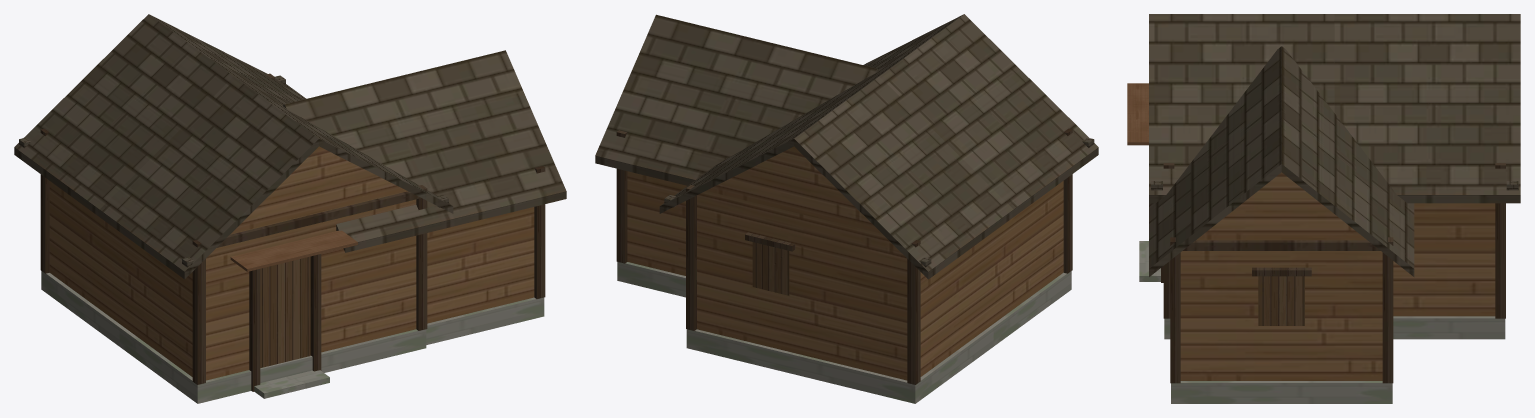
Rendered from ae_forest_wood_medium_l_lod0.glb.
The picture shows the model from 3 angles, left to right: view 1: azimuth 30°, elevation 25°; view 2: azimuth 150°, elevation 25°; view 3: azimuth 270°, elevation 25°; orthographic projection. The views are drawn at different scales.
Parts seen in each view (by area): view 1: ae_forest_wood_medium_l_lod0; view 2: ae_forest_wood_medium_l_lod0; view 3: ae_forest_wood_medium_l_lod0.
Part boxes in pixels (<box>): ae_forest_wood_medium_l_lod0: <box>14,14,566,403</box>; ae_forest_wood_medium_l_lod0: <box>595,14,1098,403</box>; ae_forest_wood_medium_l_lod0: <box>1127,14,1520,403</box>.
Bounding box in the file's own units: 7.25 × 4.4 × 5.93.
Materials: 1 (1 with a texture image).
